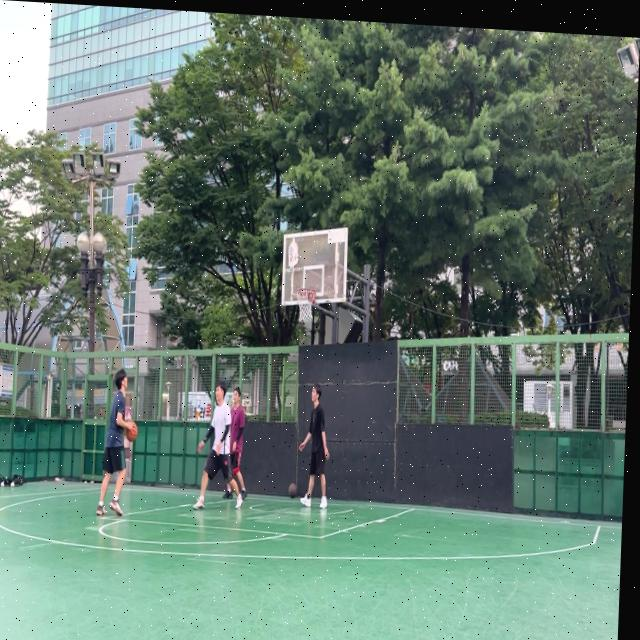basketball: (126, 421, 138, 443), (288, 482, 298, 499)
hoop: (295, 287, 316, 325)
